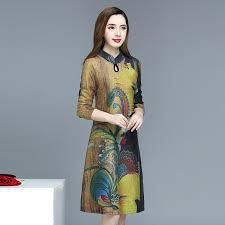dress: (76, 50, 145, 217)
